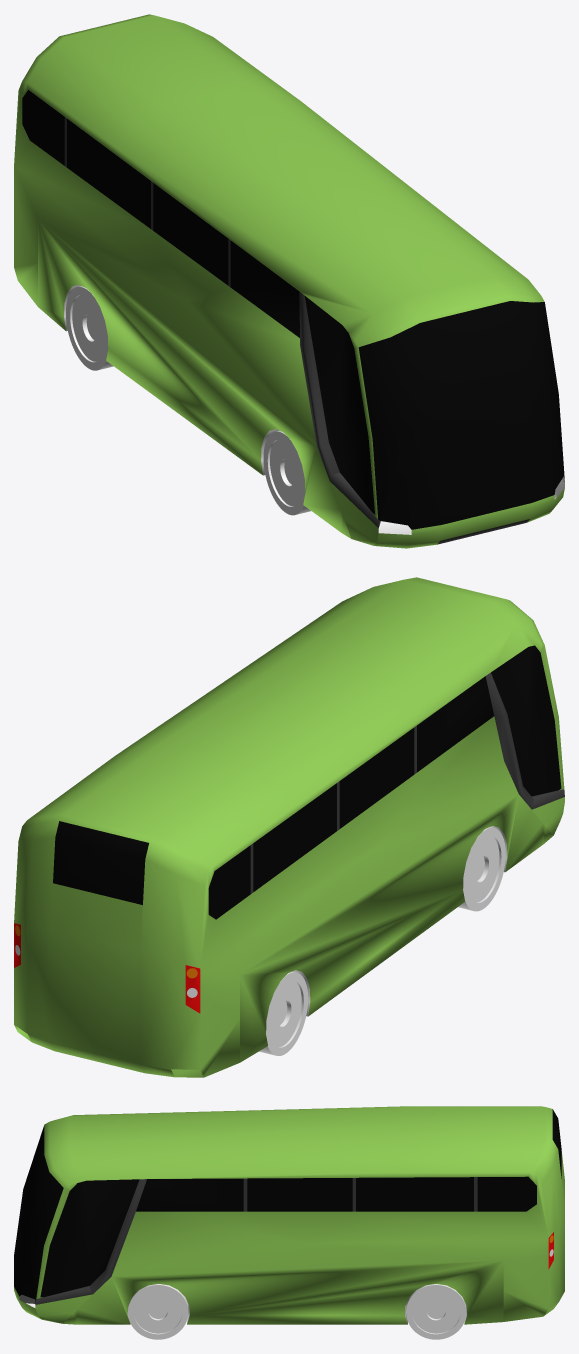
File: BUS.fbx
3 views of the same model, one above another, from view 1: azimuth 30°, elevation 25°; view 2: azimuth 150°, elevation 25°; view 3: azimuth 270°, elevation 25° (orthographic). The views are drawn at different scales.
Visible parts, largest first — view 1: Model, Object_10, Object_4, Object_9, Object_3; view 2: Model, Object_4, Object_10, Object_3, Object_9; view 3: Model, Object_13, Object_7, Object_6, Object_12.
Boxes of the visible parts, left/top/right/bottom form: Model: left=14, top=14, right=564, bottom=548; Object_10: left=72, top=295, right=104, bottom=361; Object_4: left=270, top=440, right=301, bottom=506; Object_9: left=66, top=286, right=113, bottom=370; Object_3: left=263, top=430, right=310, bottom=515; Model: left=14, top=577, right=564, bottom=1077; Object_4: left=467, top=836, right=499, bottom=902; Object_10: left=269, top=980, right=301, bottom=1047; Object_3: left=458, top=827, right=505, bottom=911; Object_9: left=259, top=971, right=308, bottom=1055; Model: left=14, top=1106, right=564, bottom=1324; Object_13: left=412, top=1290, right=460, bottom=1333; Object_7: left=134, top=1290, right=182, bottom=1333; Object_6: left=128, top=1284, right=188, bottom=1339; Object_12: left=406, top=1284, right=466, bottom=1339.
Bounding box in the file's own units: 6751 × 22656 × 8307.
